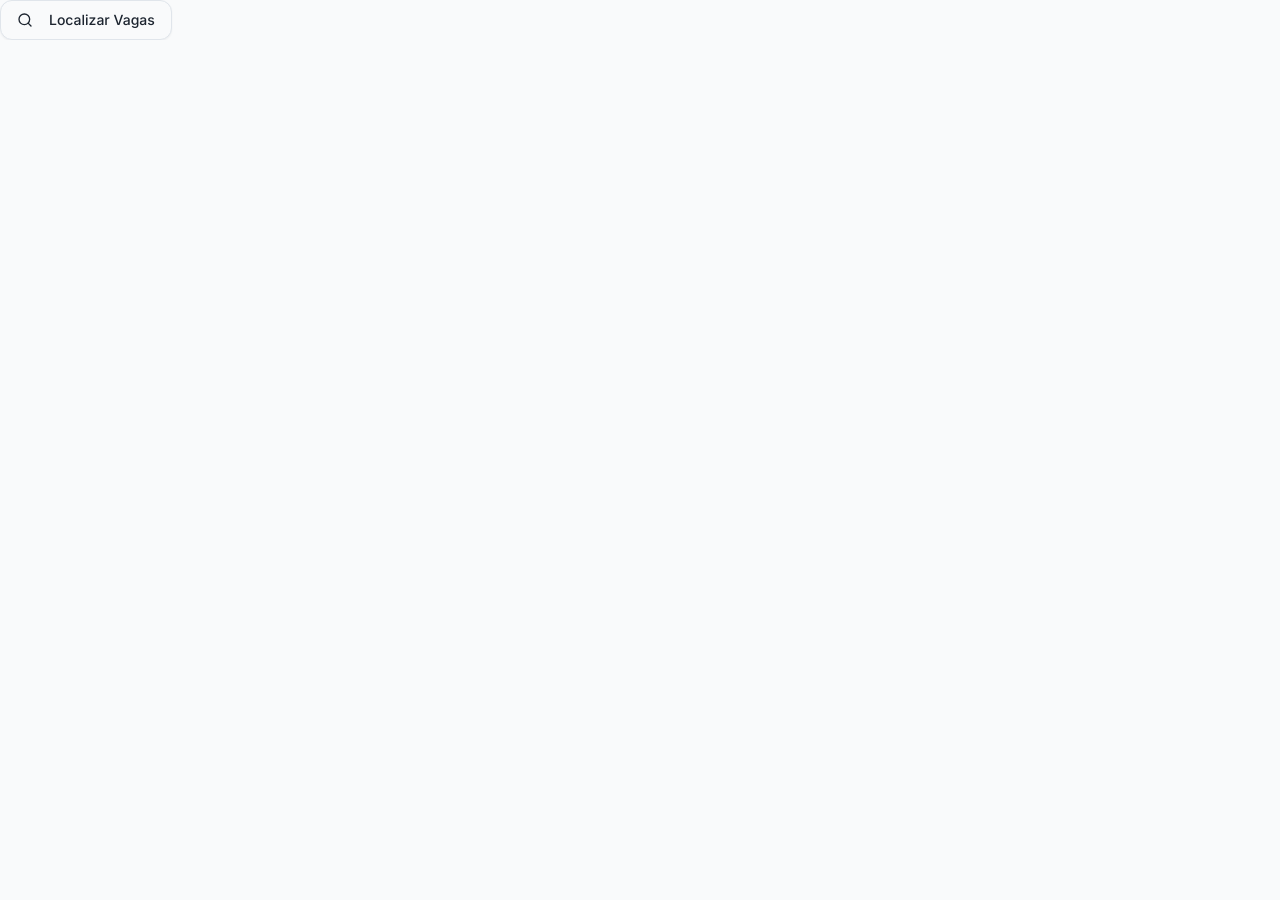
it: LocalizarVagasPanel (integração) › profissão não reconhecida não aparece; serviço só lista especialidades reconhecidas
Click the button "Localizar Vagas" at (86, 20), box [0,0,172,40]
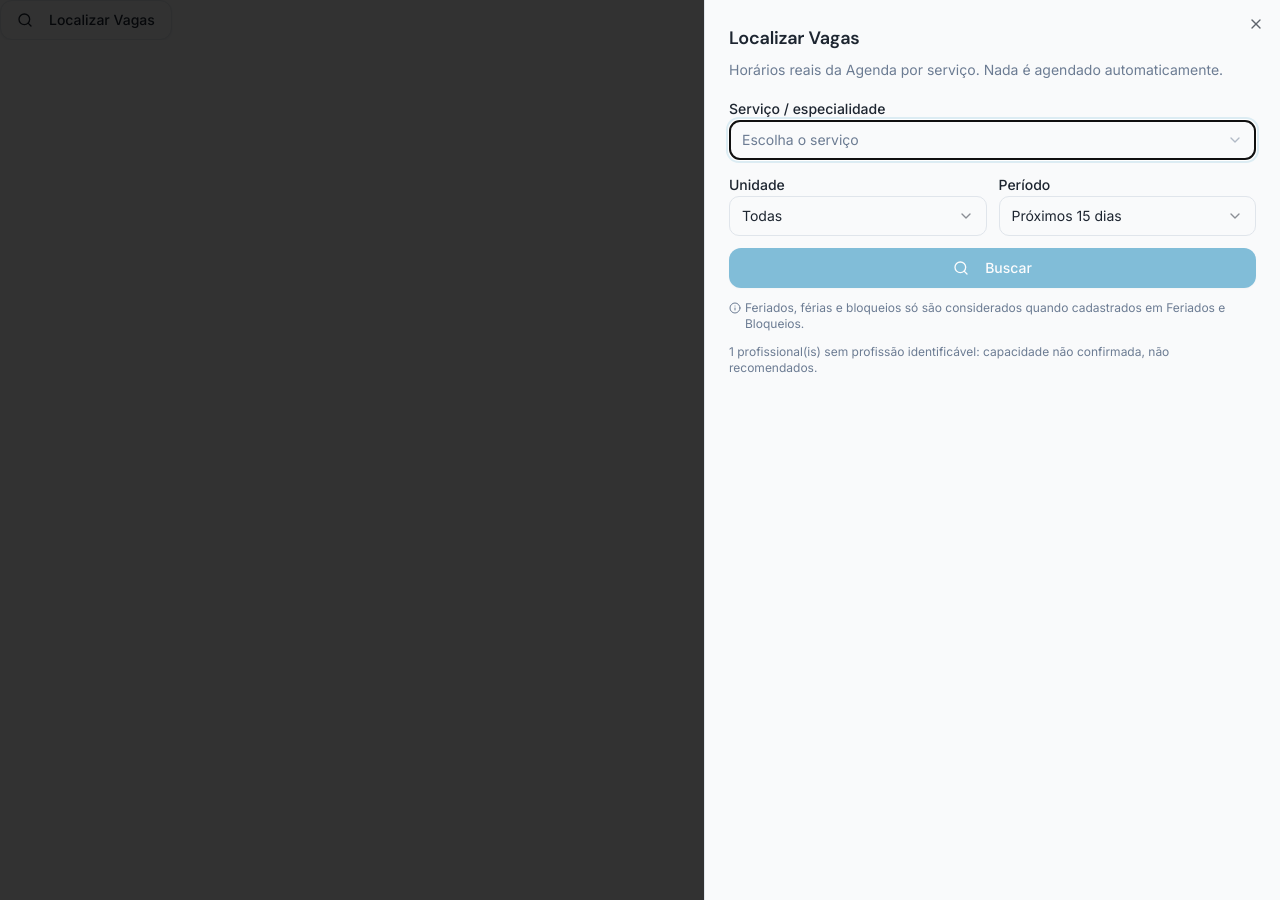
Click the dropdown labelled "Escolha o serviço" at (800, 140), box [729,120,1256,160]
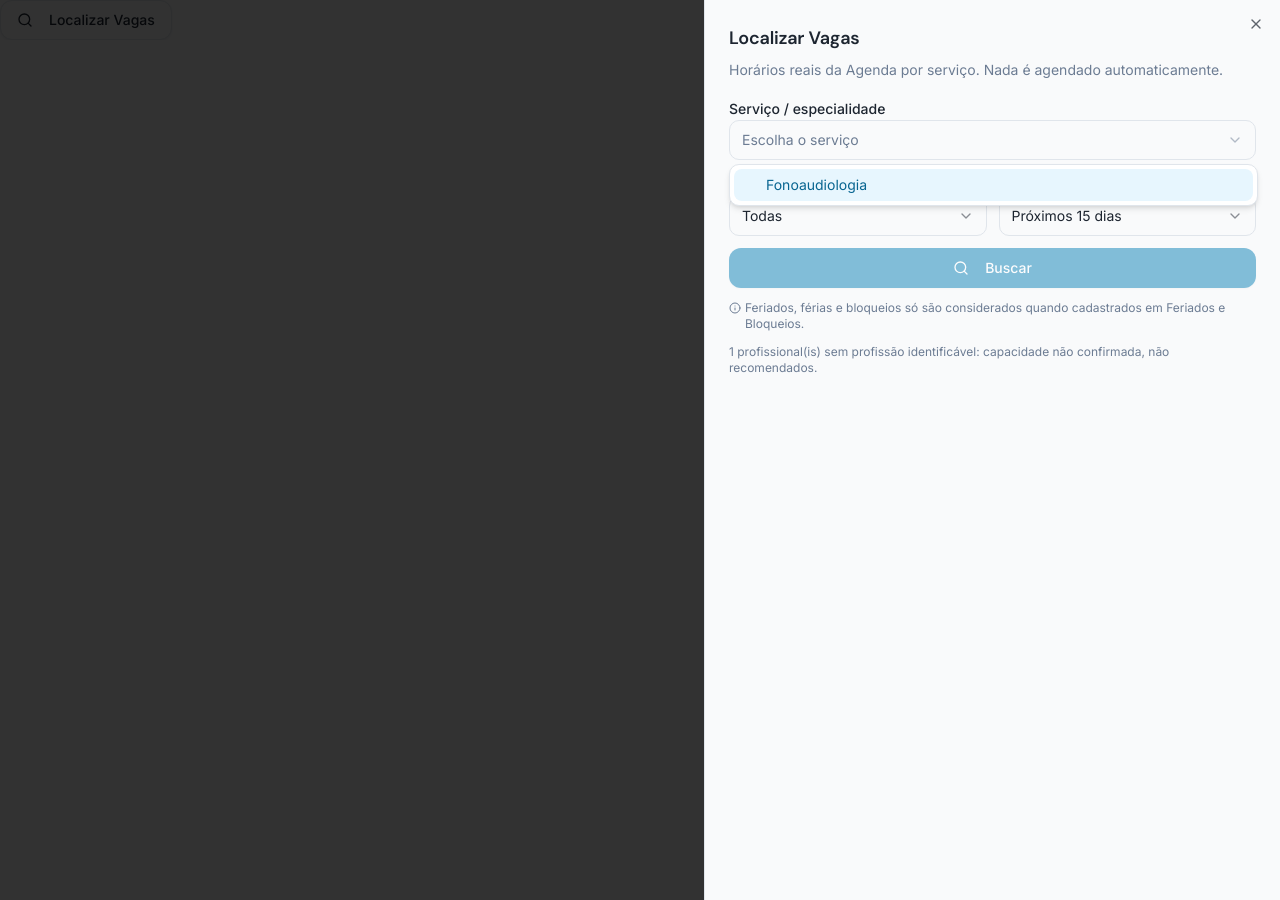
Click the option "Fonoaudiologia" at (817, 184), box [734,169,1253,201]
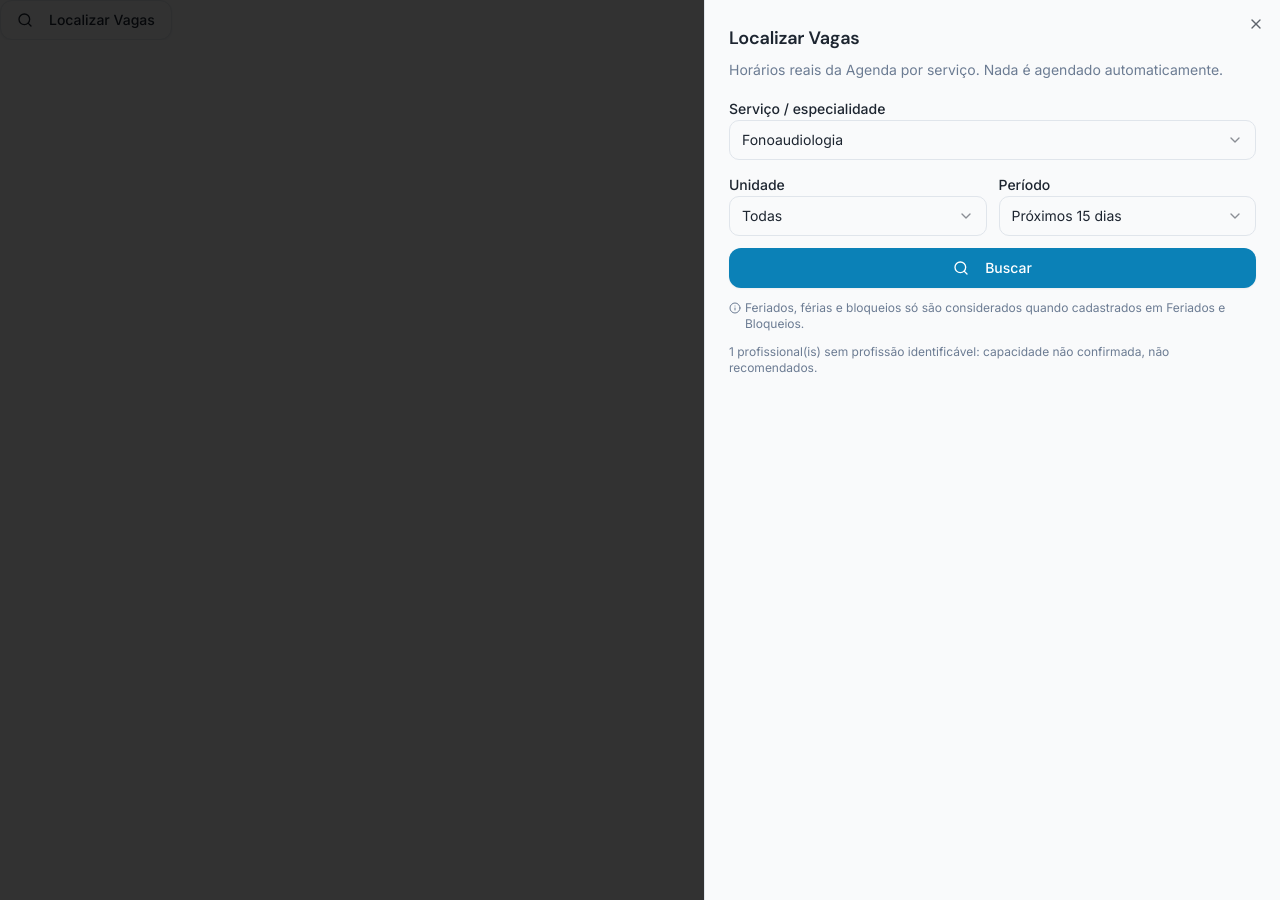
Click the button "Buscar" at (992, 268), box [729,248,1256,288]
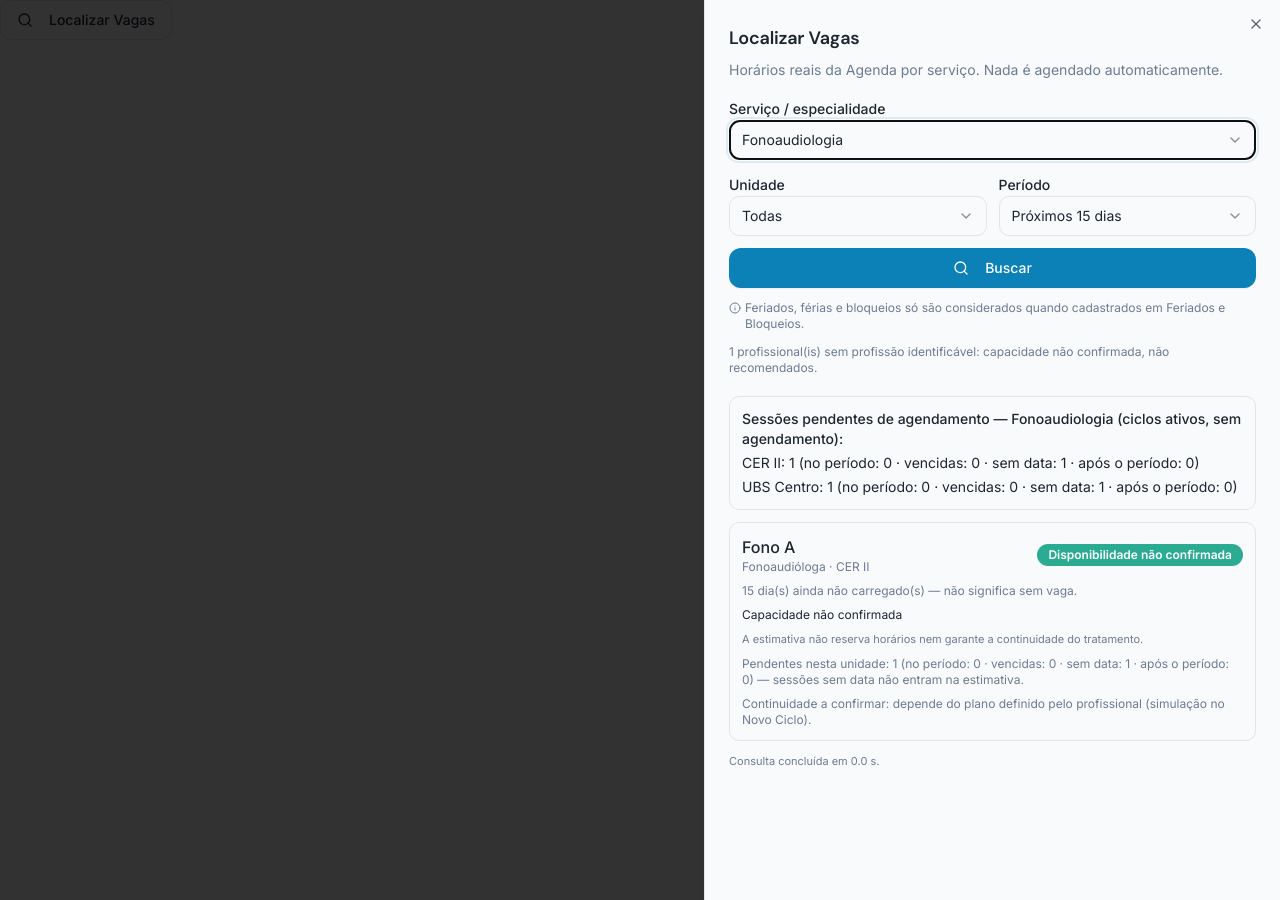
Now the text "Fono A" is shown, box [742,537,795,557]
